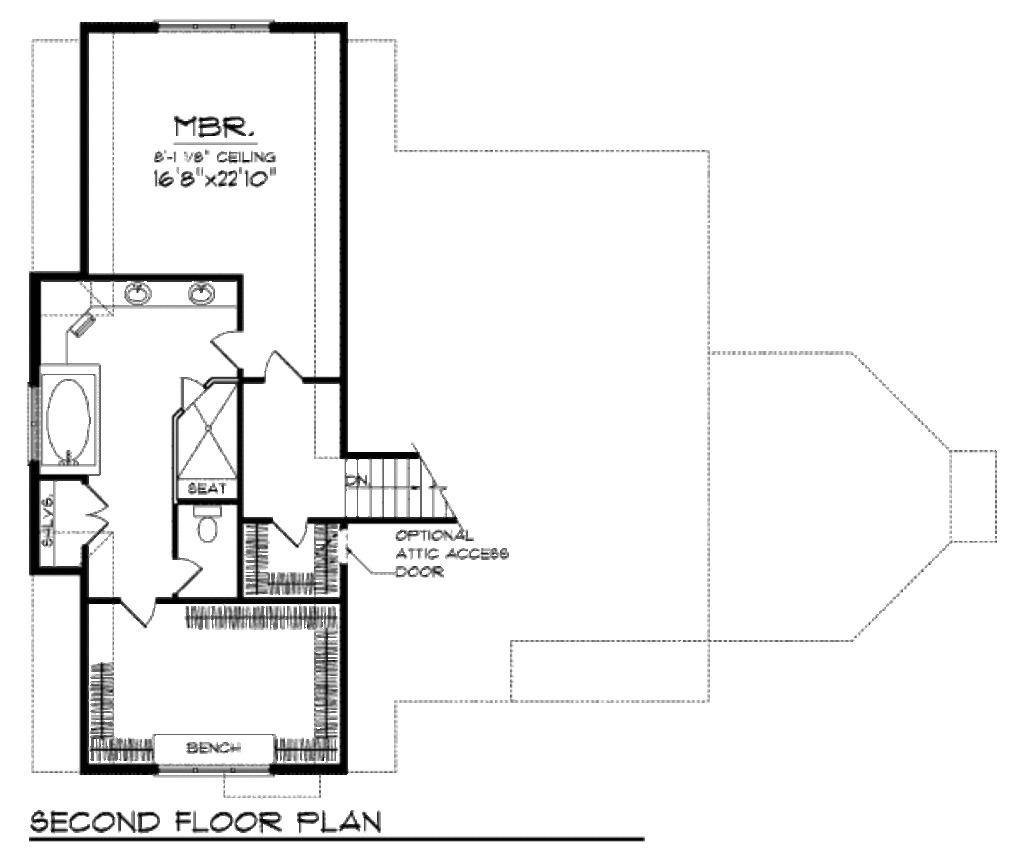door: (85, 471, 113, 547), (211, 327, 252, 378), (176, 373, 215, 415), (121, 593, 164, 631), (271, 518, 319, 551), (167, 554, 200, 597), (263, 349, 303, 381)
large_sink: (181, 506, 227, 554)
small_sink: (93, 277, 236, 313)
stairs: (335, 453, 479, 553)
tub: (41, 377, 104, 473)
window: (152, 755, 275, 779), (155, 15, 284, 37)
